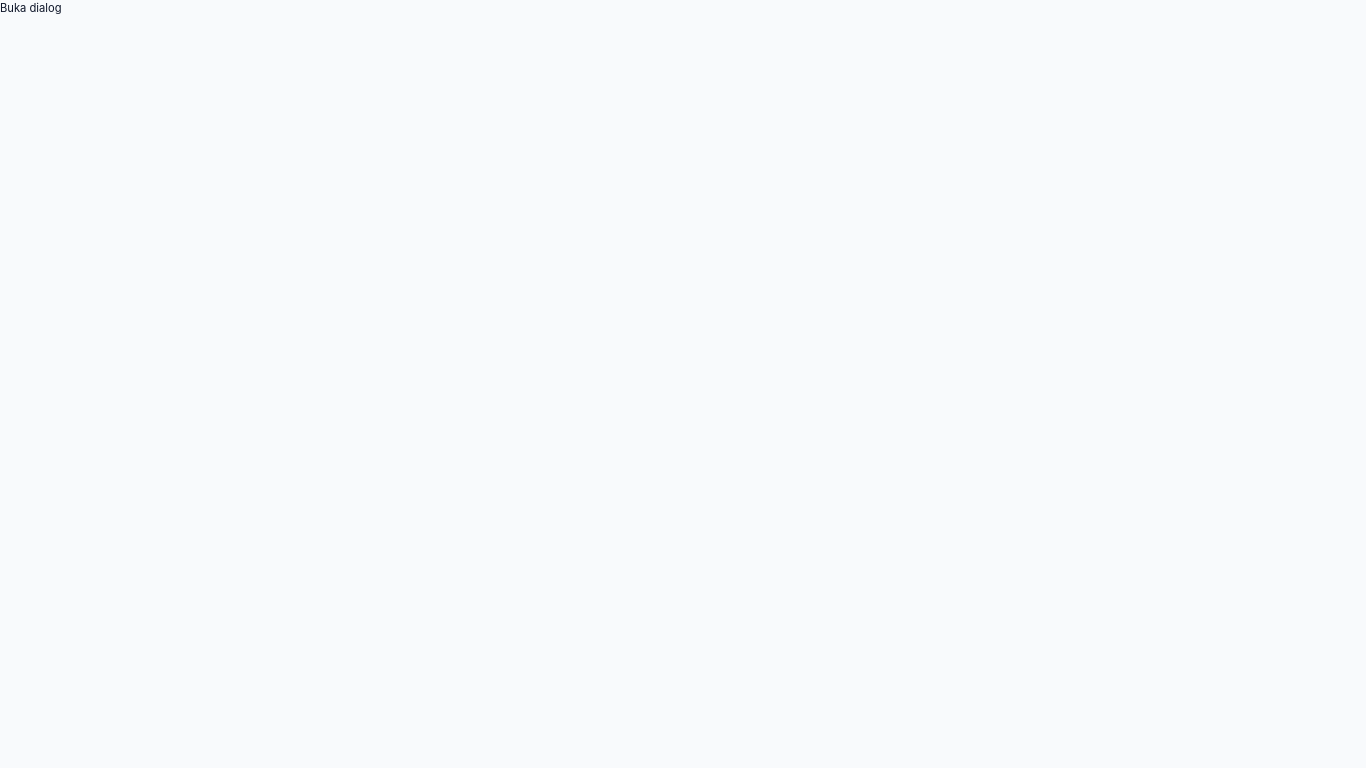
Test: dashboard UI primitives › restores focus to the trigger after a dialog closes
Later steps or results of the test are not shown.
Click the button "Buka dialog".
click(31, 8)  # box [0,0,62,17]
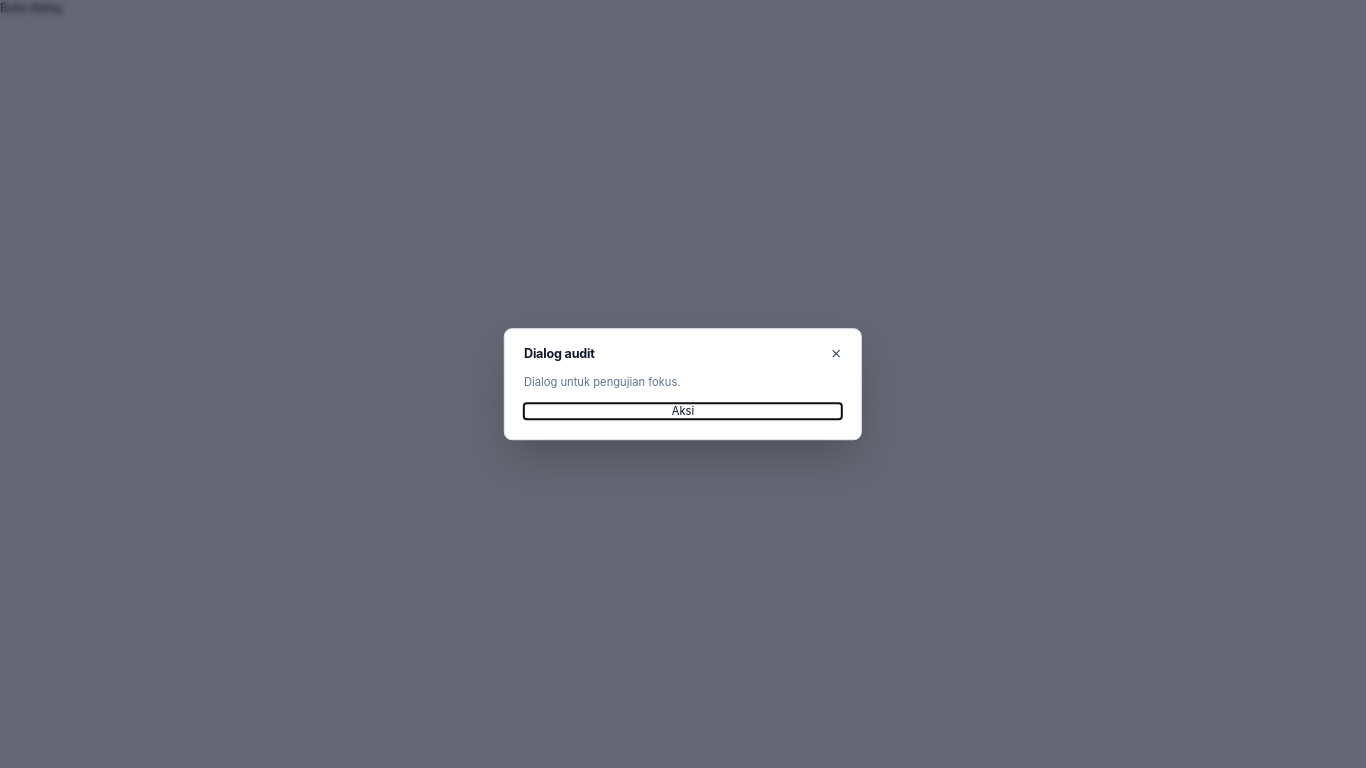
Result: the dialog is shown at [504,328,862,440]
